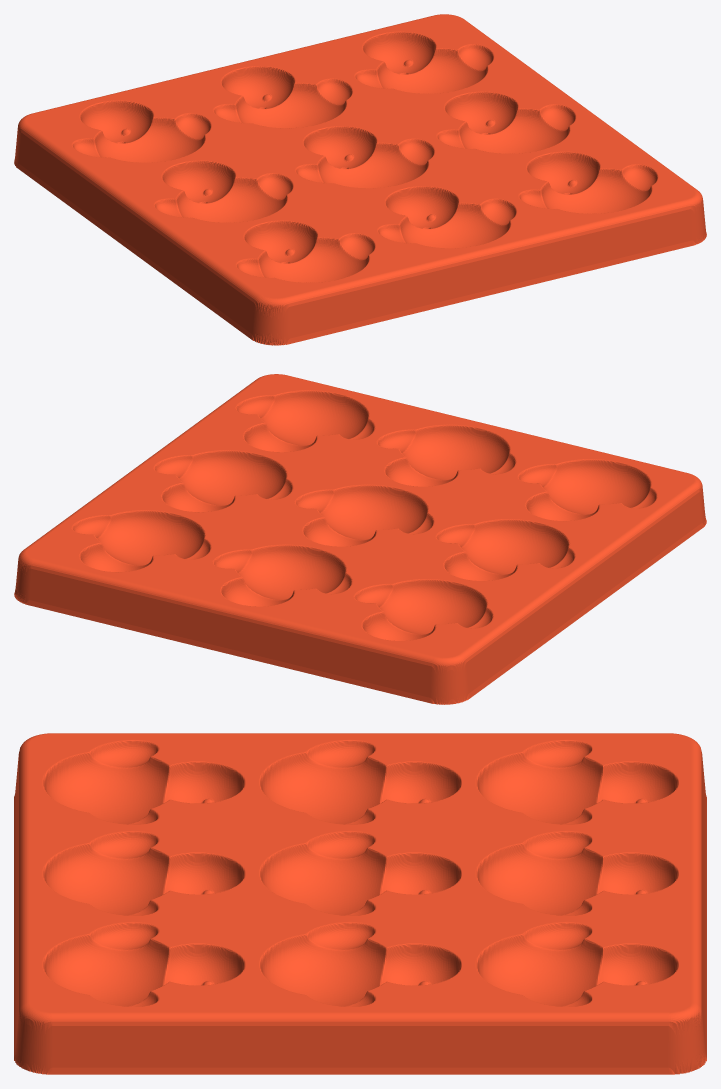
File: mold.glb
3 views of the same model, one above another, from view 1: azimuth 30°, elevation 25°; view 2: azimuth 150°, elevation 25°; view 3: azimuth 270°, elevation 25° (orthographic). The views are drawn at different scales.
Visible parts, largest first — view 1: geometry_0; view 2: geometry_0; view 3: geometry_0.
Part boxes in pixels (x1=…): geometry_0: x1=14, y1=14, x2=706, y2=345; geometry_0: x1=14, y1=374, x2=706, y2=704; geometry_0: x1=14, y1=733, x2=706, y2=1074.
Size of the model in its own units: 0.162 by 0.0145 by 0.1629.
